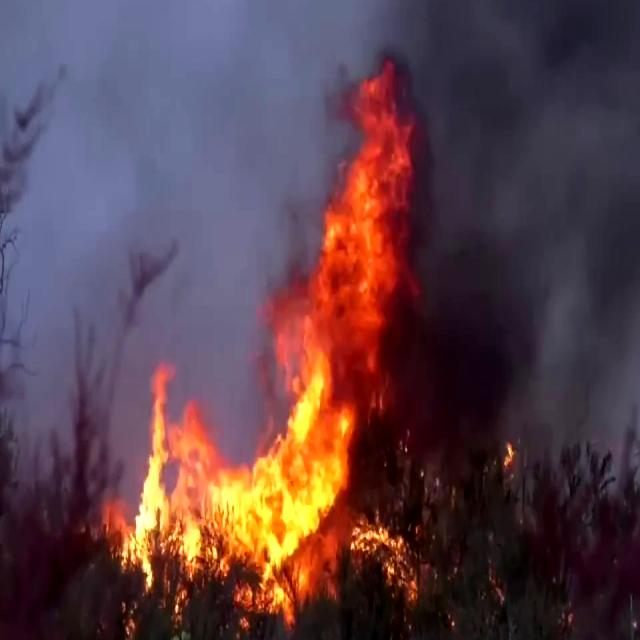fire: (130, 86, 424, 588)
smoke: (446, 0, 640, 419)
